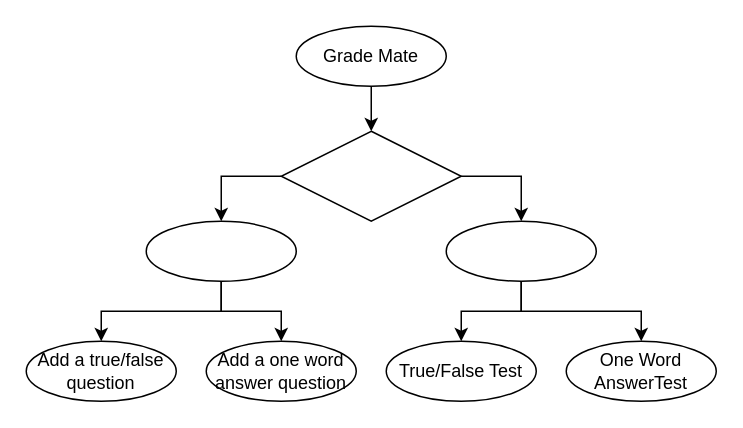
The diagram is 743 pixels wide and 428 high, and some of its shapes have lost their labels. The box of each missing label's shape, as (x1, y1, x2, y2) in pixels:
Add Questions: (145, 220, 296, 281)
Take a Test: (445, 220, 596, 281)
User: (280, 130, 461, 221)
